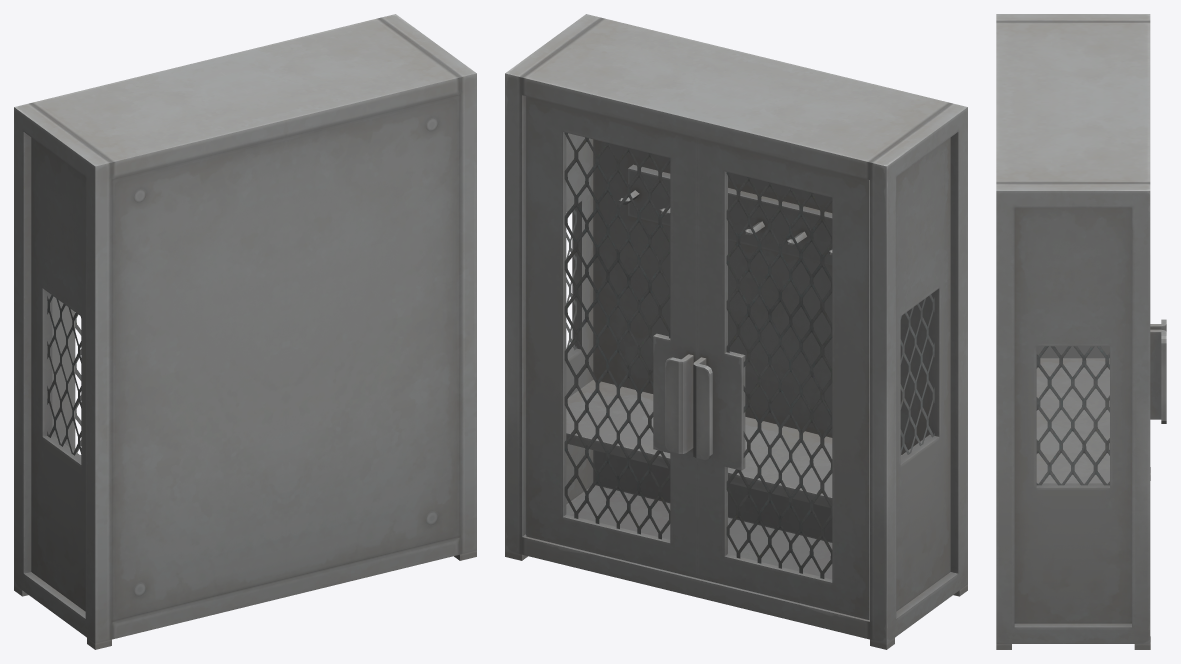
File: P_Cabinet_028_S1_M01.obj
The picture shows the model from 3 angles, left to right: view 1: azimuth 30°, elevation 25°; view 2: azimuth 150°, elevation 25°; view 3: azimuth 270°, elevation 25°; orthographic projection. The views are drawn at different scales.
Bounding box in the file's own units: 1.9 × 2.3 × 0.7739.
Materials: 1 (1 with a texture image).
